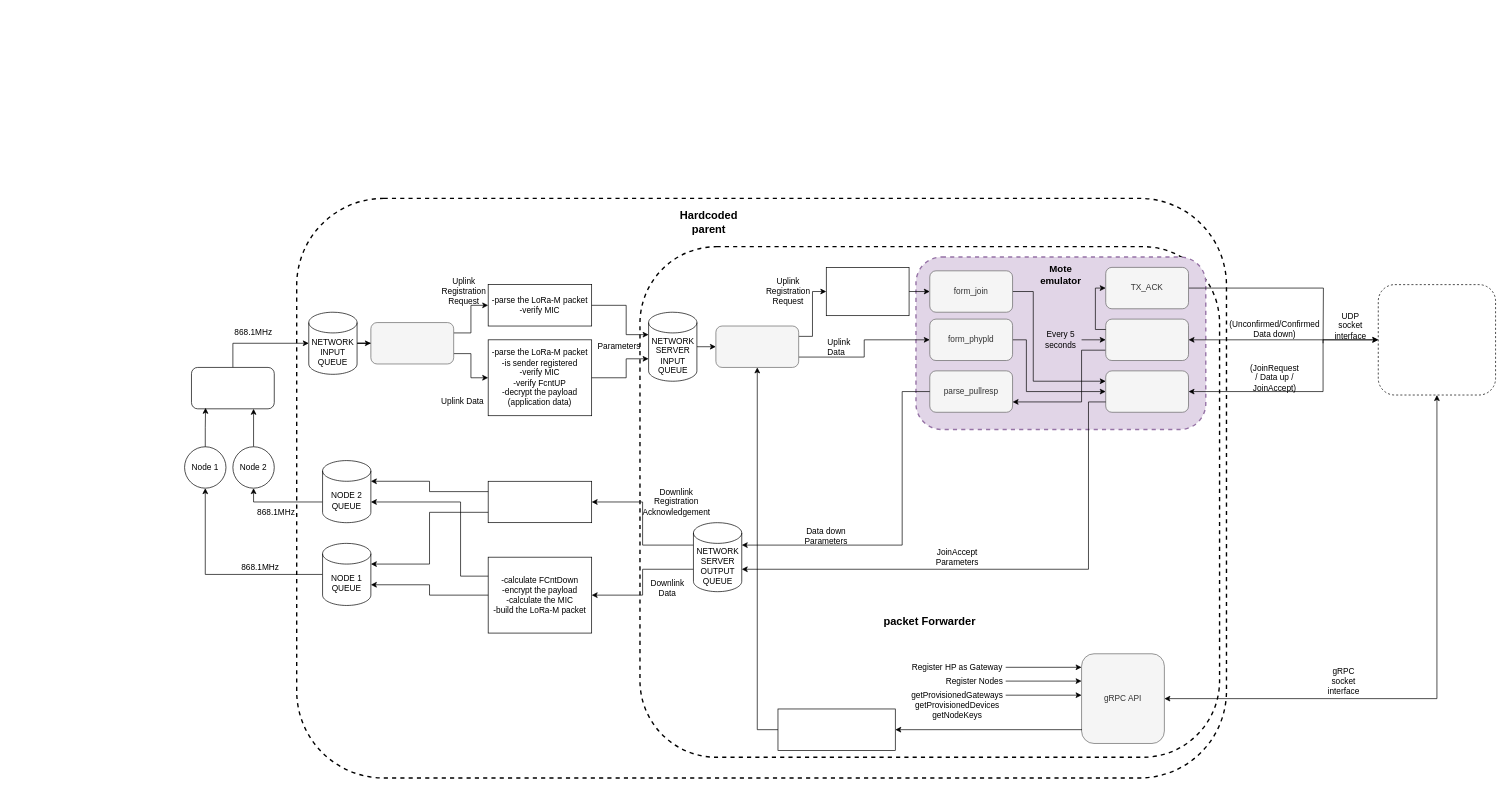
The diagram is 1508 pixels wide and 796 high, and some of its shapes have lost their labels. Here are the shapes that lost their labels. From the top down, the box of each, then its label:
(826, 267, 909, 316): -create Mote class for the new node -update End node parameters dictionary
(370, 322, 454, 364): dataQueueCheck
(715, 325, 799, 367): NSQueueCheck
(1105, 318, 1189, 361): pull
(1378, 284, 1496, 395): Network Server
(191, 367, 274, 409): radio interface
(1105, 370, 1189, 412): push
(487, 481, 592, 523): -calcualte the MIC -encrypt the fields -build the LoRa-M packet
(777, 708, 895, 750): -create a dictionary of neccessarry parameters for each node -put in the AppKeys
